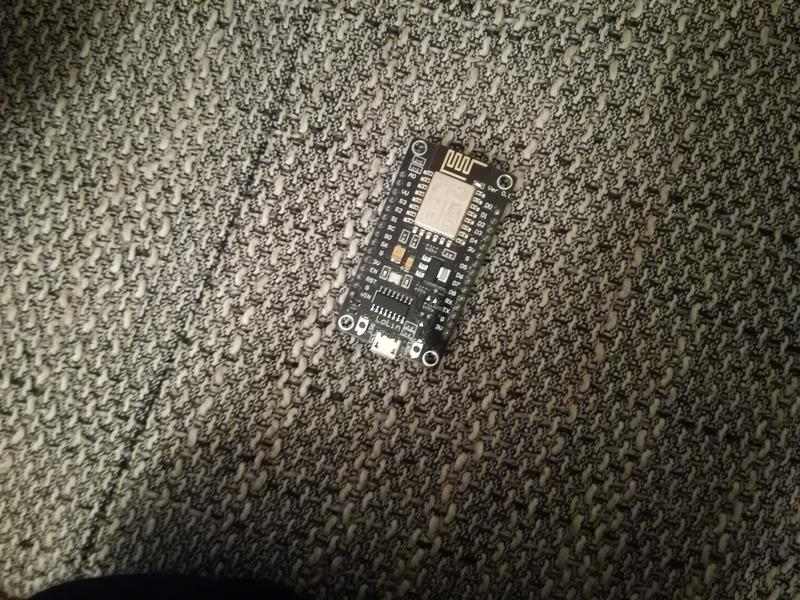ESP8266: (328, 135, 523, 381)
